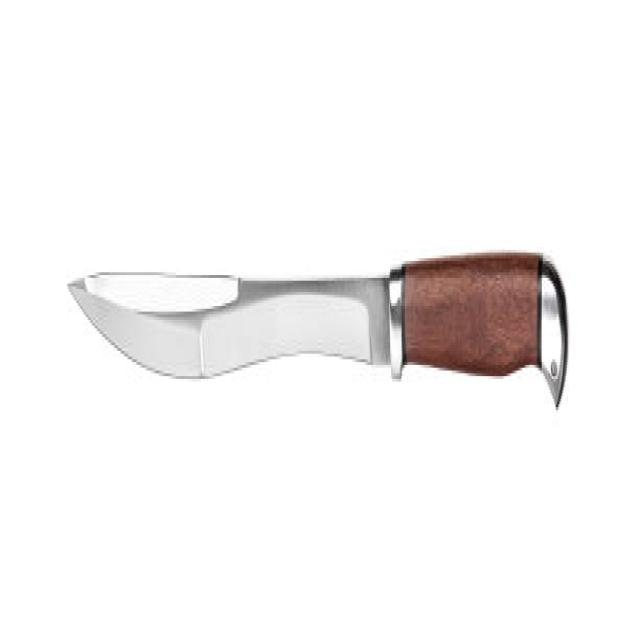knife: (63, 243, 572, 411)
